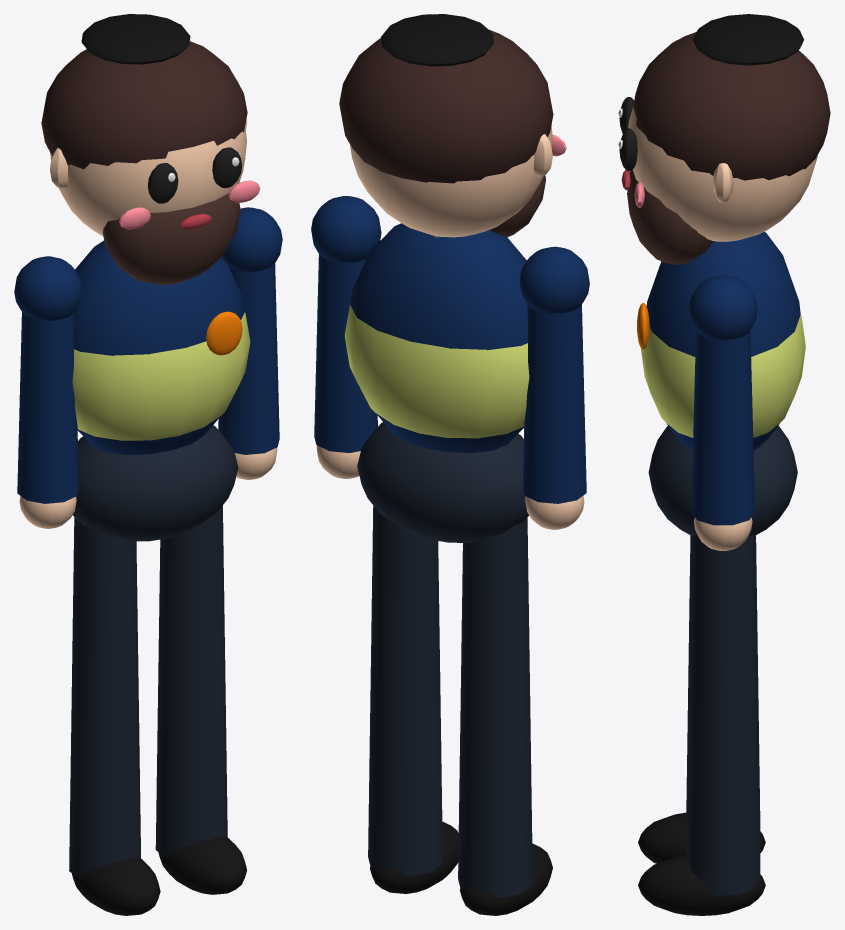
Rendered from community_emt.glb.
The picture shows the model from 3 angles, left to right: view 1: azimuth 30°, elevation 25°; view 2: azimuth 150°, elevation 25°; view 3: azimuth 270°, elevation 25°; orthographic projection. The views are drawn at different scales.
Visible parts, largest first — view 1: Body.002, Leg_R.002, Leg_L.002, Arm_R.002, Arm_L.002; view 2: Body.002, Leg_R.002, Leg_L.002, Arm_R.002, Arm_L.002; view 3: Body.002, Leg_L.002, Arm_L.002, Leg_R.002.
Boxes of the visible parts, x1,y1,x2,y2 form: Body.002: (41, 14, 260, 541); Leg_R.002: (69, 517, 160, 915); Leg_L.002: (155, 505, 246, 894); Arm_R.002: (14, 256, 81, 528); Arm_L.002: (218, 207, 282, 479); Body.002: (339, 14, 566, 542); Leg_R.002: (458, 518, 552, 915); Leg_L.002: (368, 506, 458, 893); Arm_R.002: (519, 246, 589, 529); Arm_L.002: (311, 196, 381, 478); Body.002: (618, 14, 830, 535); Leg_L.002: (638, 535, 765, 915); Arm_L.002: (688, 275, 757, 550); Leg_R.002: (638, 535, 765, 863).
Bounding box in the file's own units: 0.57 × 1.78 × 0.3981.
